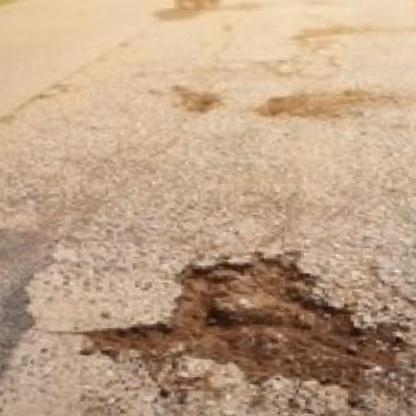pothole: (79, 243, 399, 398)
